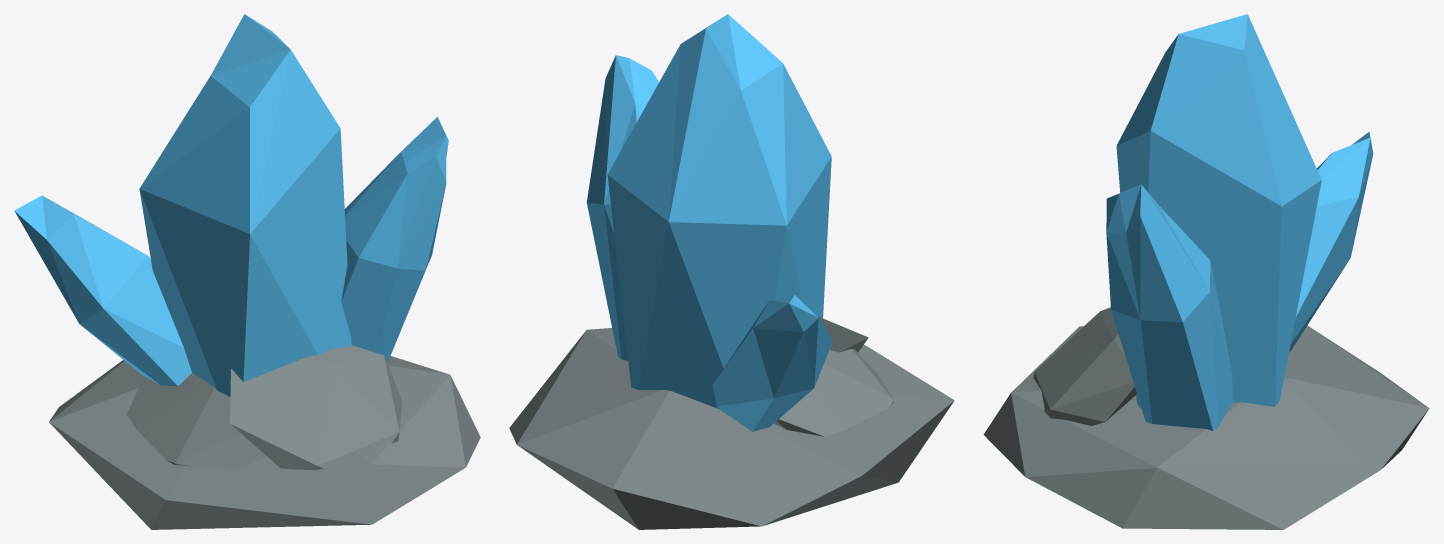
The model's file is Crystal_03.fbx.
The picture shows the model from 3 angles, left to right: view 1: azimuth 30°, elevation 25°; view 2: azimuth 150°, elevation 25°; view 3: azimuth 270°, elevation 25°; orthographic projection.
Parts seen in each view (by area): view 1: Crystal_03; view 2: Crystal_03; view 3: Crystal_03.
Part boxes in pixels (bbox=[...]): Crystal_03: bbox=[14, 14, 480, 529]; Crystal_03: bbox=[509, 14, 954, 529]; Crystal_03: bbox=[983, 14, 1429, 529].
Size of the model in its own units: 27.37 by 33.35 by 29.72.
